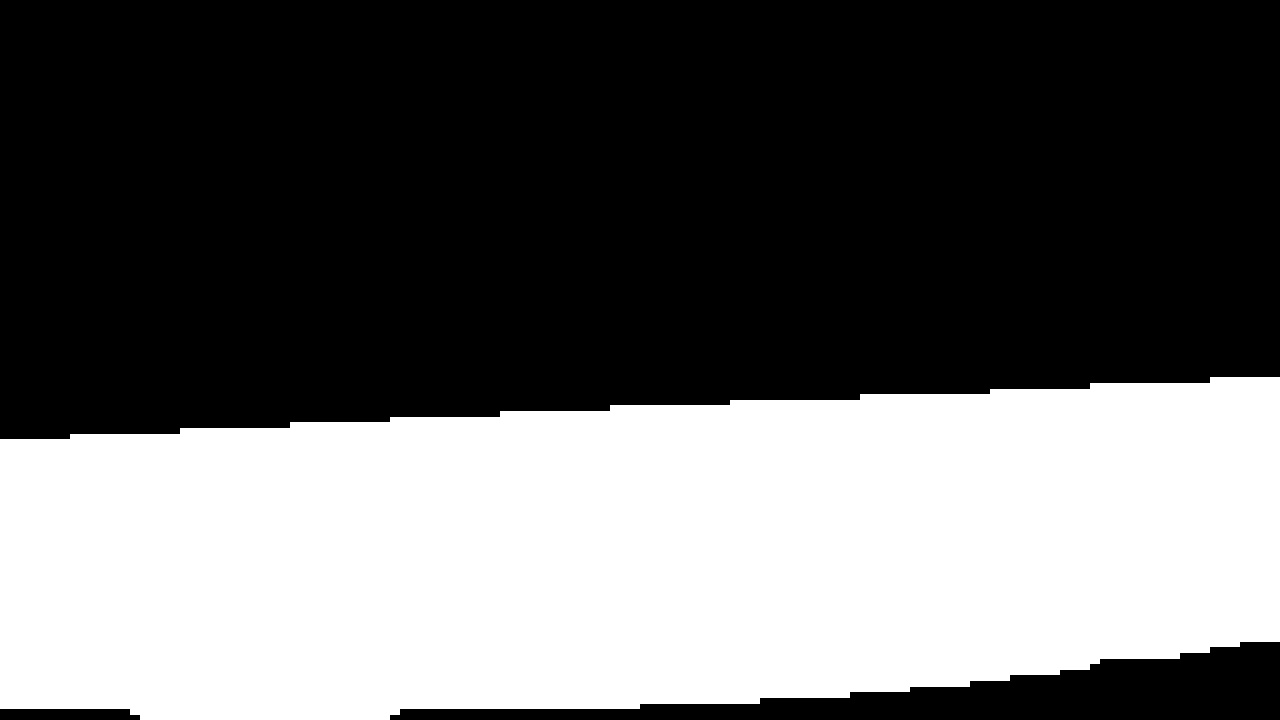Turbine: (6, 354, 1272, 711)
